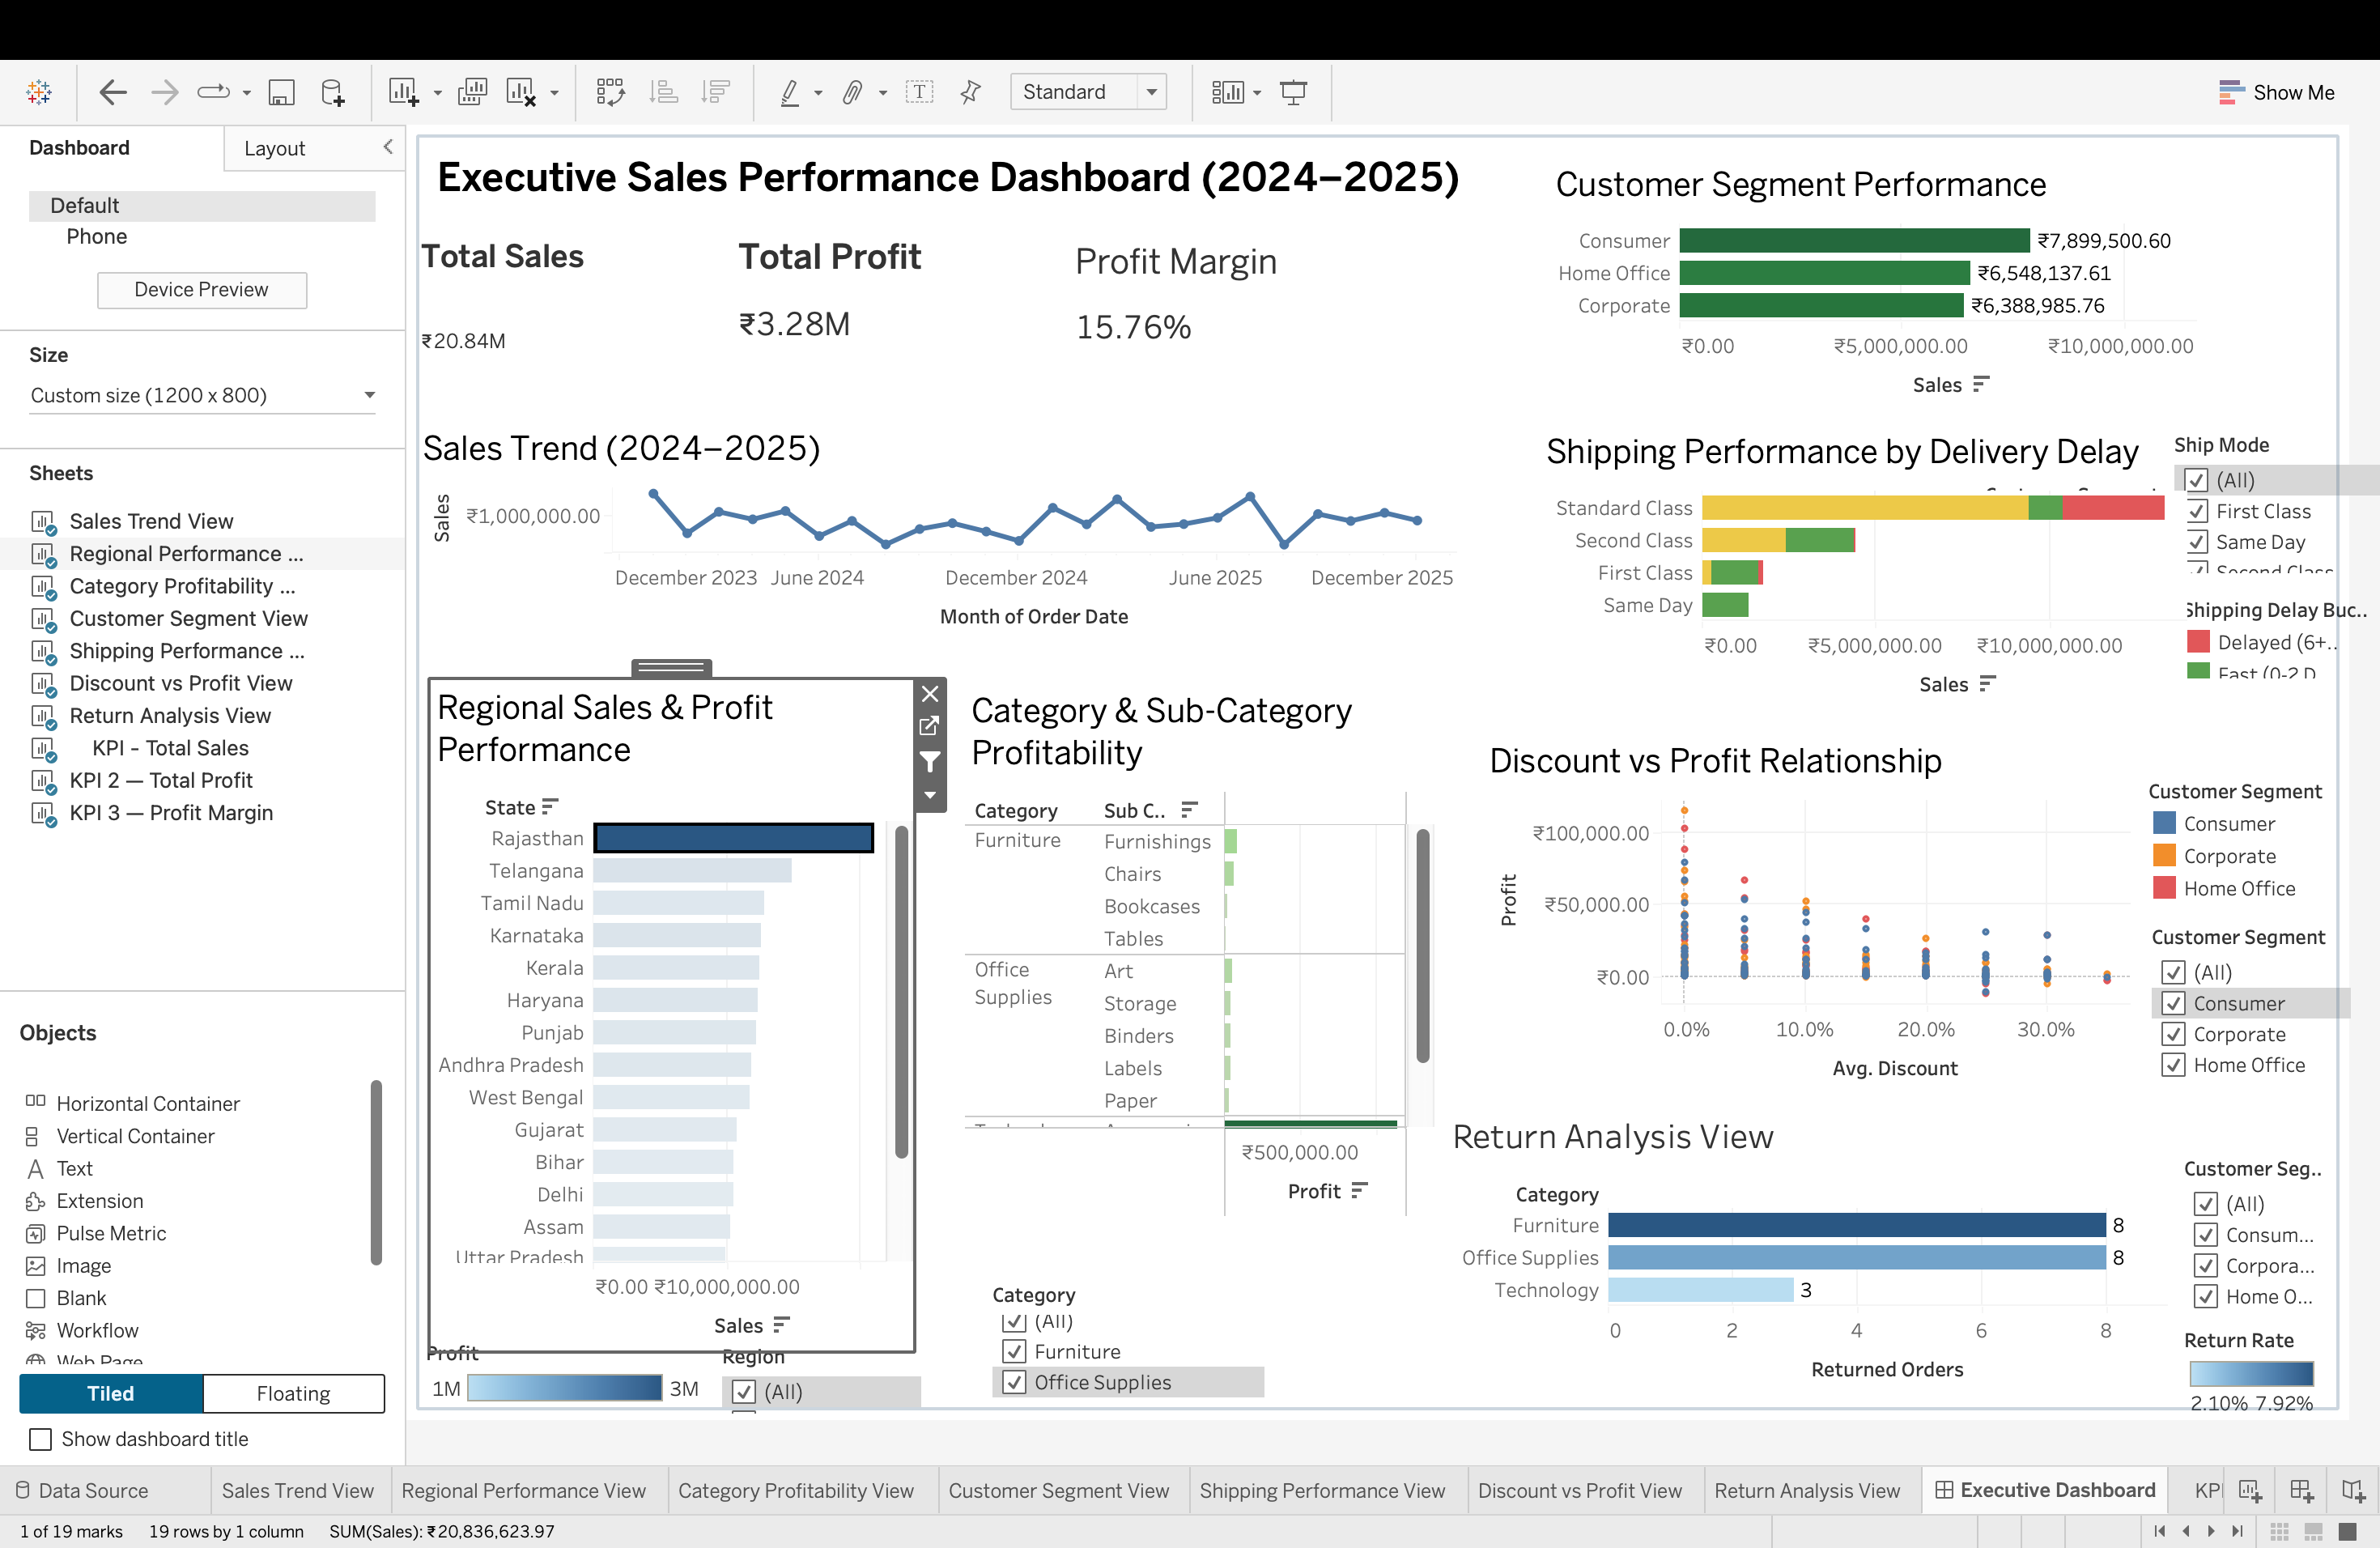

This screenshot's page, from the dashboard's own definition file:
{"tool":"tableau","page":{"name":"Executive Dashboard","canvas":[1200,800],"ordinal":0},"visuals":[{"type":"worksheet","title":"Customer Segment View","mark":"Automatic","rows":["customer_segment"],"cols":["sales"],"box":[706,20,400,159]},{"type":"worksheet","title":"KPI 2 — Total Profit","mark":"Automatic","box":[201,48,326,95]},{"type":"worksheet","title":"    KPI - Total Sales","mark":"Text","box":[5,50,334,100]},{"type":"worksheet","title":"KPI 3 — Profit Margin","mark":"Automatic","box":[409,52,239,91]},{"type":"worksheet","title":"Sales Trend View","mark":"Line","rows":["sales"],"cols":["order_date"],"box":[6,183,643,136]},{"type":"worksheet","title":"Shipping Performance View","mark":"Automatic","rows":["ship_mode"],"cols":["sales"],"box":[700,185,400,184]},{"type":"filter","title":"Customer Segment View","param":"[federated.0e4njm11eov4q11cw8gf70ys18uh].[none:customer_segment:nk]","box":[975,220,124,108]},{"type":"worksheet","title":"Regional Performance View","mark":"Automatic","rows":["state"],"cols":["sales"],"box":[15,343,298,414]},{"type":"worksheet","title":"Category Profitability View","mark":"Automatic","rows":["category","sub_category"],"cols":["profit"],"box":[345,345,290,330]},{"type":"worksheet","title":"Discount vs Profit View","mark":"Automatic","rows":["profit"],"cols":["discount"],"box":[665,376,400,222]},{"type":"filter","title":"Discount vs Profit View","param":"[federated.0e4njm11eov4q11cw8gf70ys18uh].[none:customer_segment:nk]","box":[1078,493,123,108]},{"type":"worksheet","title":"Return Analysis View","mark":"Automatic","rows":["category"],"cols":["return_flag"],"box":[642,606,446,184]},{"type":"filter","title":"Return Analysis View","param":"[federated.0e4njm11eov4q11cw8gf70ys18uh].[none:customer_segment:nk]","box":[1098,636,87,125]},{"type":"filter","title":"Category Profitability View","param":"[federated.0e4njm11eov4q11cw8gf70ys18uh].[none:category:nk]","box":[362,714,168,72]},{"type":"legend","title":"Regional Performance View","param":"[federated.0e4njm11eov4q11cw8gf70ys18uh].[sum:profit:qk]","box":[12,750,174,46]},{"type":"filter","title":"Regional Performance View","param":"[federated.0e4njm11eov4q11cw8gf70ys18uh].[none:region:nk]","box":[195,752,123,44]}]}

Visuals, with their boxes on the page's 1200x800 design canvas (x1, y1, x2, y2). These are canvas units, not pixel positions in the 2380x1548 screenshot, which may show the page scaled, cropped or inside an application window:
"Customer Segment View" worksheet: region(706, 20, 1106, 179)
"KPI 2 — Total Profit" worksheet: region(201, 48, 527, 143)
"    KPI - Total Sales" worksheet (Text marks): region(5, 50, 339, 150)
"KPI 3 — Profit Margin" worksheet: region(409, 52, 648, 143)
"Sales Trend View" worksheet (Line marks): region(6, 183, 649, 319)
"Shipping Performance View" worksheet: region(700, 185, 1100, 369)
"Customer Segment View" filter: region(975, 220, 1099, 328)
"Regional Performance View" worksheet: region(15, 343, 313, 757)
"Category Profitability View" worksheet: region(345, 345, 635, 675)
"Discount vs Profit View" worksheet: region(665, 376, 1065, 598)
"Discount vs Profit View" filter: region(1078, 493, 1201, 601)
"Return Analysis View" worksheet: region(642, 606, 1088, 790)
"Return Analysis View" filter: region(1098, 636, 1185, 761)
"Category Profitability View" filter: region(362, 714, 530, 786)
"Regional Performance View" legend: region(12, 750, 186, 796)
"Regional Performance View" filter: region(195, 752, 318, 796)
